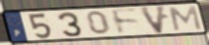0: (86, 10, 113, 36)
3: (57, 11, 84, 38)
5: (26, 12, 54, 40)
F: (110, 8, 142, 36)
M: (167, 5, 204, 32)
V: (137, 5, 168, 36)
